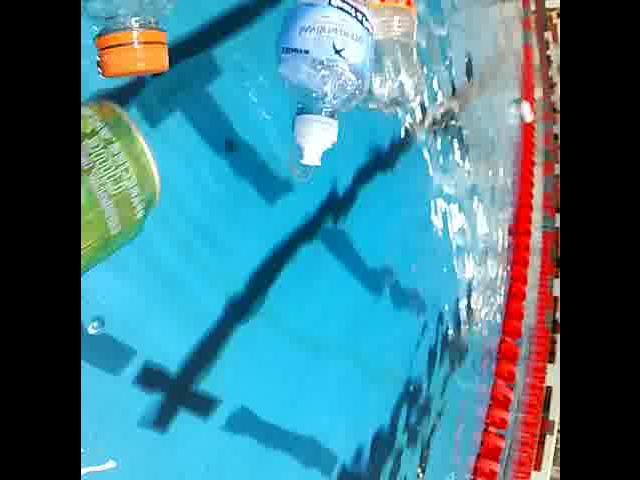Bottle: (272, 0, 386, 186), (80, 0, 191, 91), (354, 0, 424, 122)
Can: (80, 87, 166, 298)
